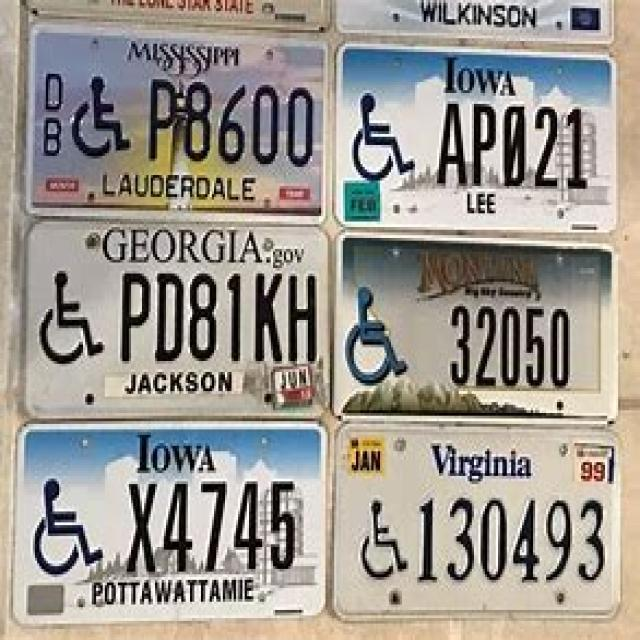car-handicap-placard: (37, 266, 109, 371), (31, 479, 104, 579), (70, 66, 134, 166), (346, 288, 410, 387), (354, 88, 416, 185), (360, 493, 409, 584)
